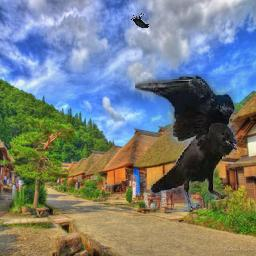Crow: (135, 74, 237, 212), (131, 12, 150, 28)
